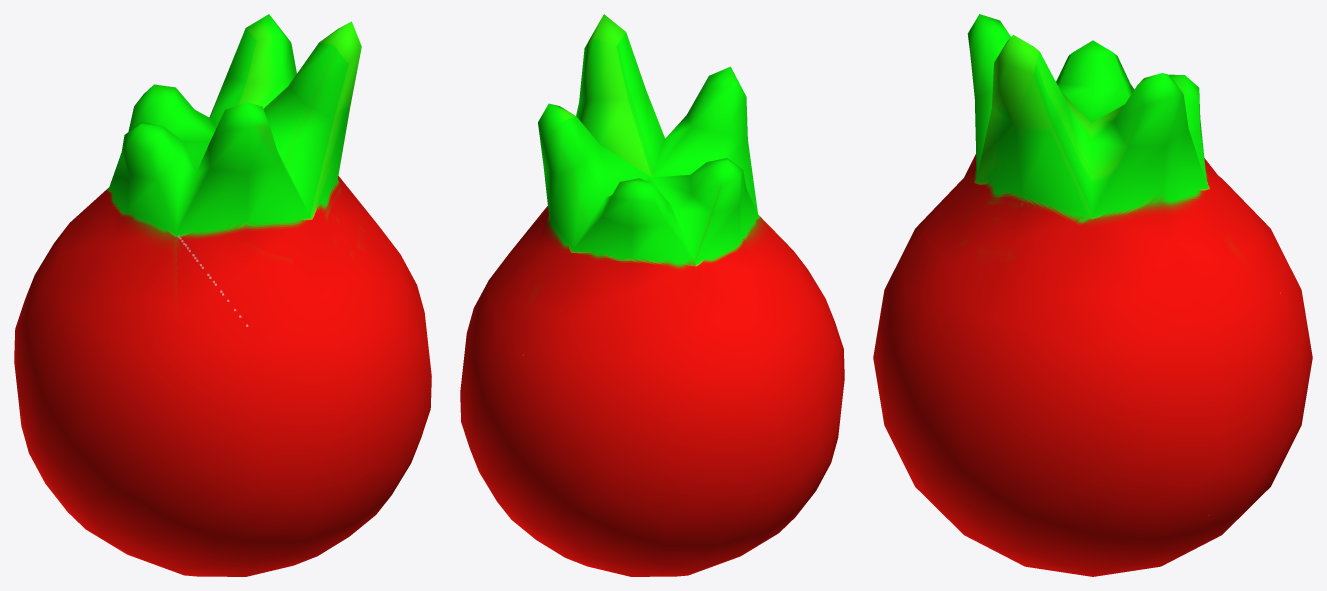
File: tomato.fbx
3 views of the same model, side by side, from view 1: azimuth 30°, elevation 25°; view 2: azimuth 150°, elevation 25°; view 3: azimuth 270°, elevation 25° (orthographic). The views are drawn at different scales.
Parts seen in each view (by area): view 1: Icosphere; view 2: Icosphere; view 3: Icosphere.
Boxes of the visible parts, x1,y1,x2,y2 form: Icosphere: (14,14,431,576); Icosphere: (460,14,844,576); Icosphere: (873,14,1312,576).
Size of the model in its own units: 185 by 264 by 185.
1 material, 1 textured.
